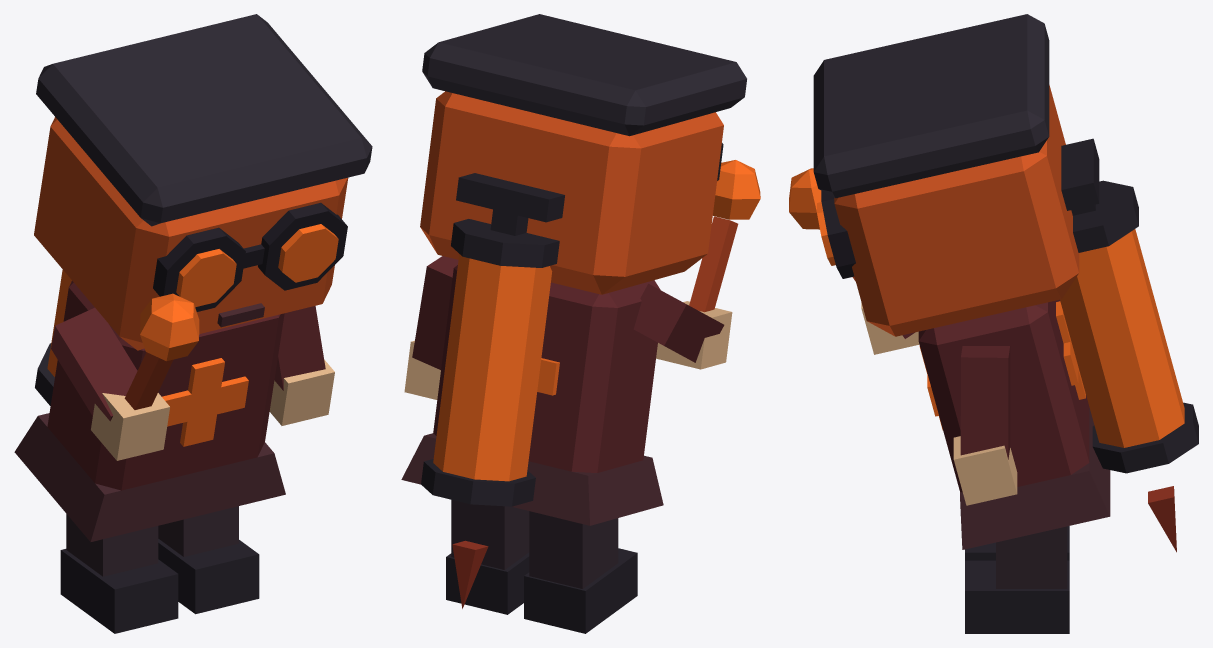
File: medic_enemy_r3.glb
3 renders of one model, left to right at view 1: azimuth 30°, elevation 25°; view 2: azimuth 150°, elevation 25°; view 3: azimuth 270°, elevation 25°, orthographic. The views are drawn at different scales.
Parts seen in each view (by area): view 1: medic_enemy_r3_mesh; view 2: medic_enemy_r3_mesh; view 3: medic_enemy_r3_mesh.
Boxes of the visible parts, x1,y1,x2,y2 form: medic_enemy_r3_mesh: (14,14,372,633); medic_enemy_r3_mesh: (401,14,760,633); medic_enemy_r3_mesh: (789,14,1198,633).
Bounding box in the file's own units: 0.7643 × 1.5 × 1.04.
Materials: 1 (1 with a texture image).
